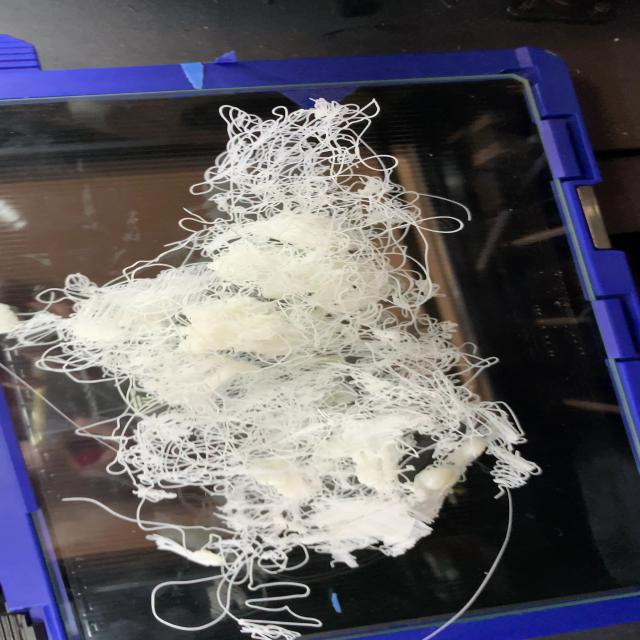spaghetti: (5, 96, 542, 636)
